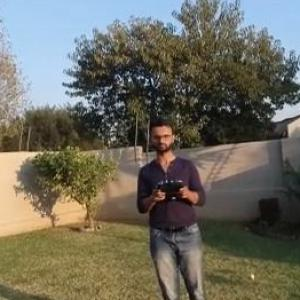follow: (132, 113, 213, 299)
